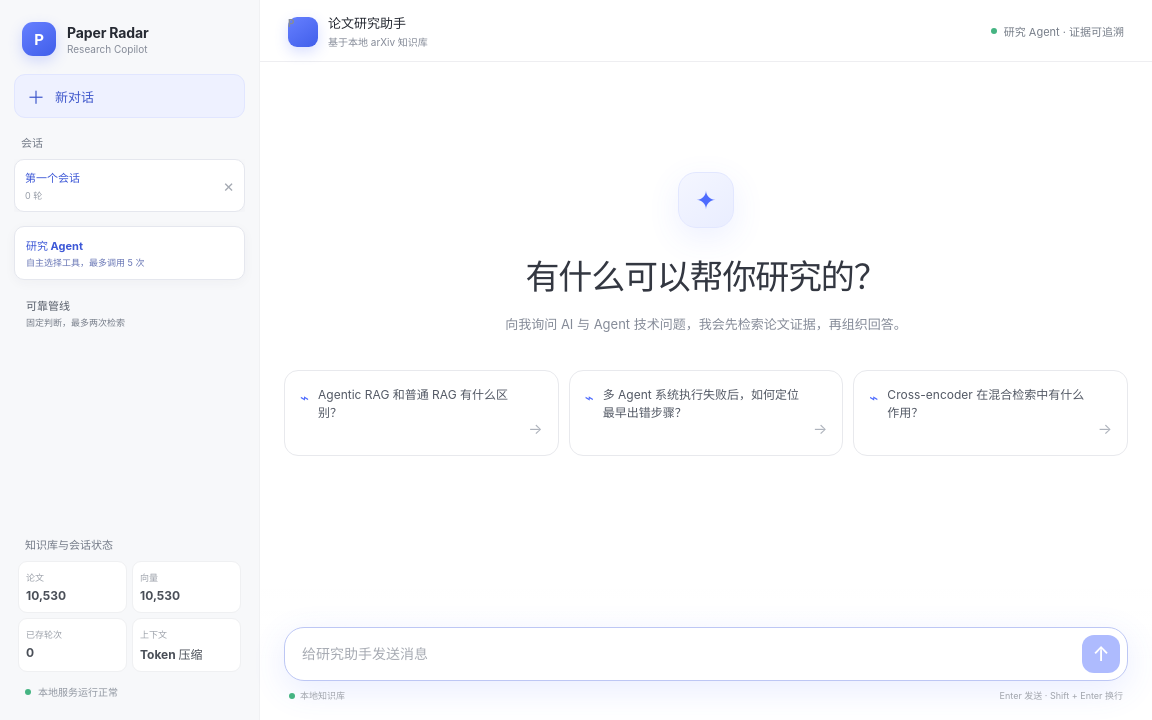
Test: App › renders retrieval evidence when generation fails softly
The image size is (1152, 720).
expect the button named "发送" is shown: met, box [1082, 635, 1120, 673]
In the text box named "继续追问或开始一个新技术话题": (692, 654) [302, 635, 1082, 673], type "软失败问题"
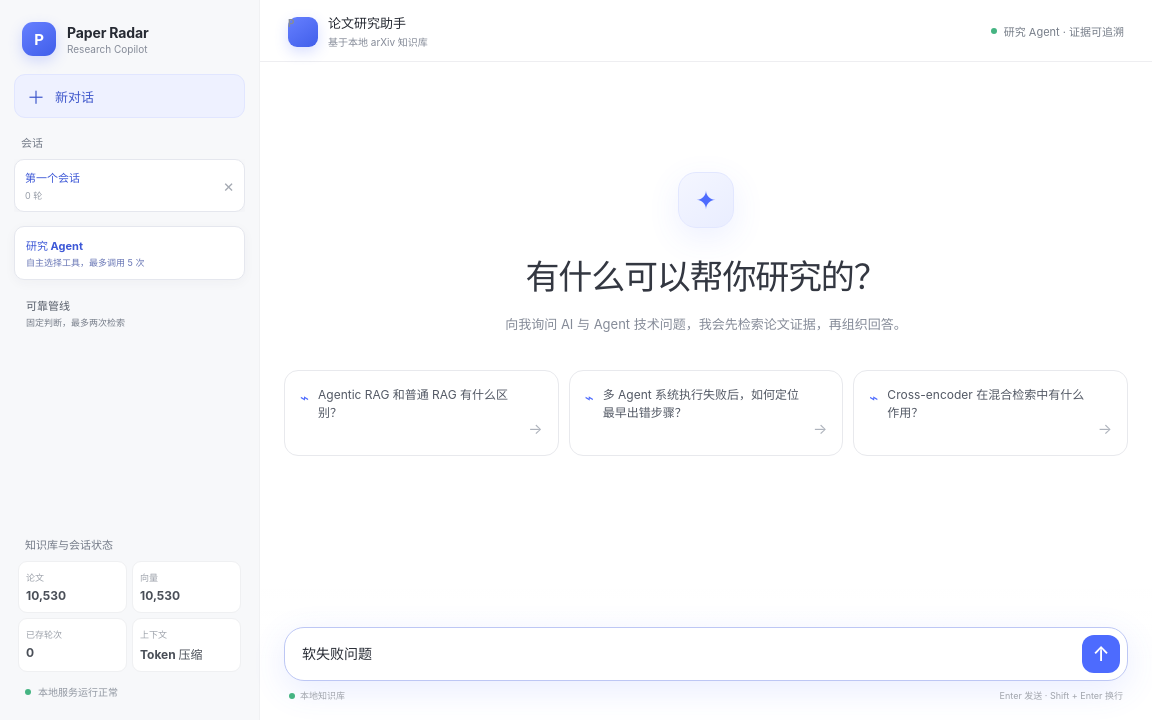
Click the button named "发送": (1101, 654) [1082, 635, 1120, 673]
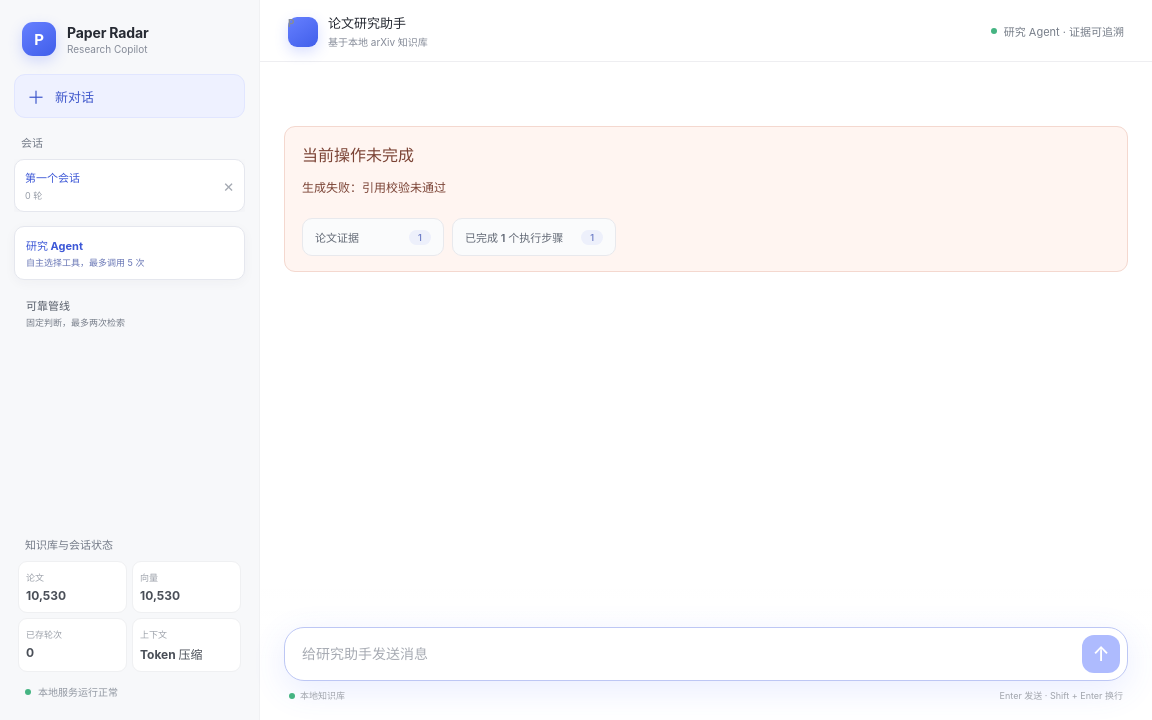
expect the message shows "生成失败：引用校验未通过": met, box [302, 180, 446, 195]
